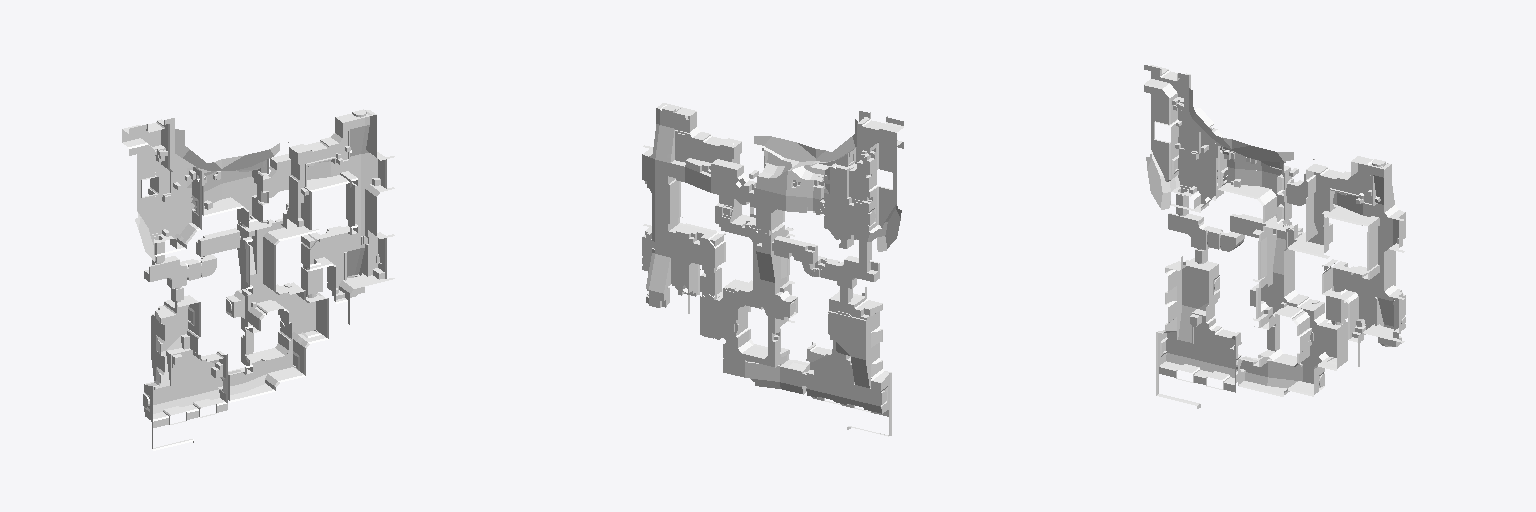
Rendered from de_dust2.obj.
3 views of the same model, side by side, from view 1: azimuth 30°, elevation 25°; view 2: azimuth 150°, elevation 25°; view 3: azimuth 330°, elevation 25° (orthographic).
Parts seen in each view (by area): view 1: BSP_Object.model_0; view 2: BSP_Object.model_0; view 3: BSP_Object.model_0.
Part boxes in pixels (x1,y1,x2,y2): BSP_Object.model_0: (122,109,394,450); BSP_Object.model_0: (642,103,903,436); BSP_Object.model_0: (1144,65,1405,408).
Size of the model in its own units: 4480 by 5312 by 608.